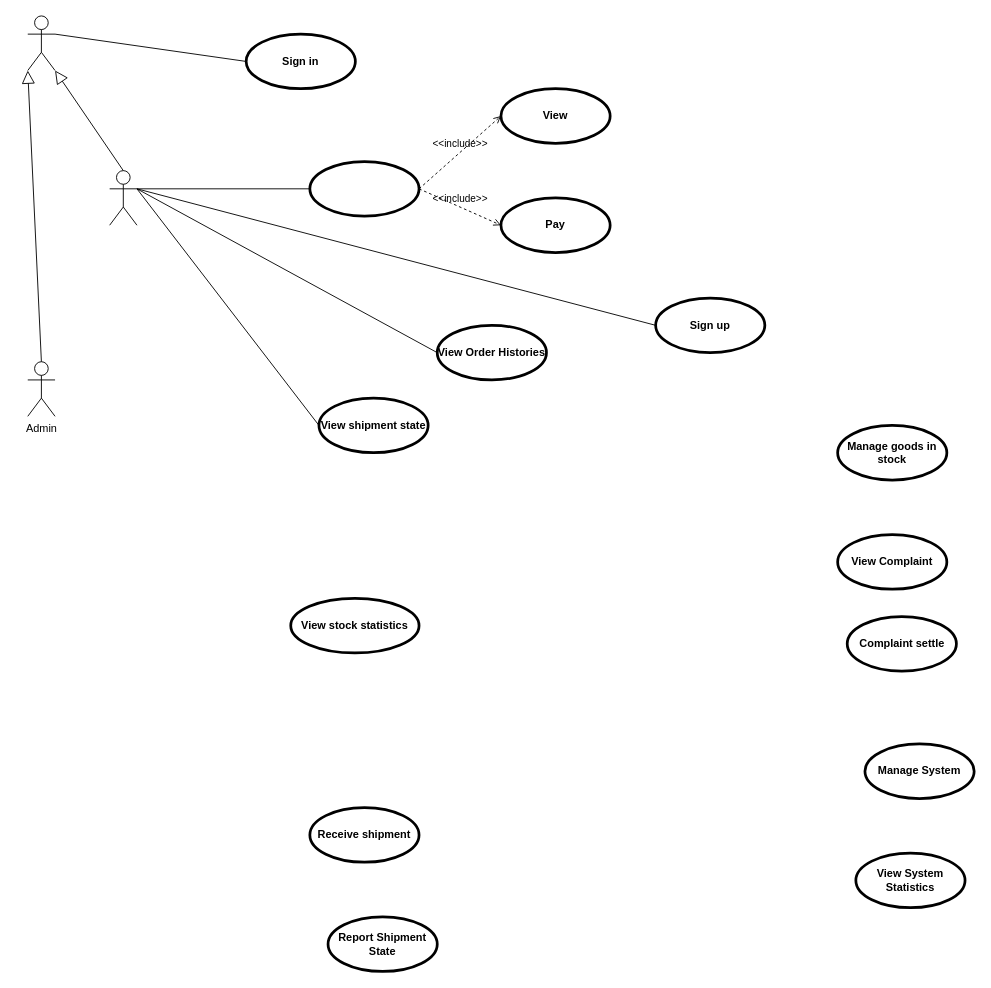
The diagram is 991 pixels wide and 988 high, and some of its shapes have lost their labels. The centre of each missing label's shape, as x and y in pixels:
Customer: (x=123, y=197)
Order: (x=364, y=188)
User: (x=41, y=43)
